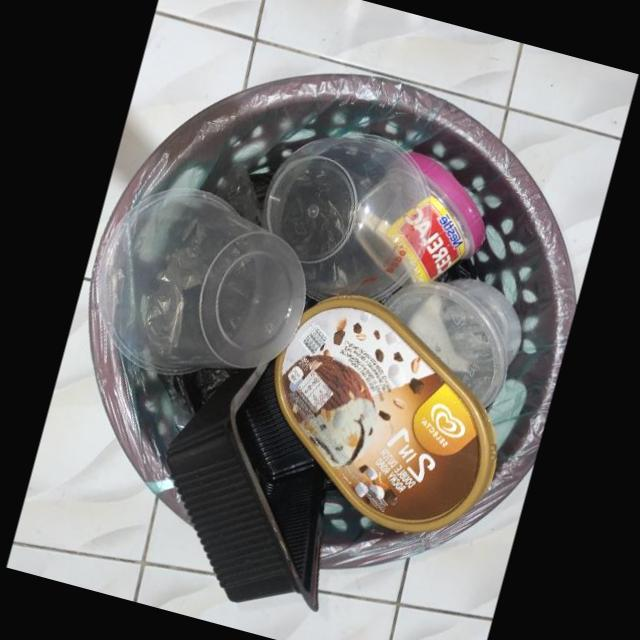hop_nhua: (274, 293, 497, 532), (165, 358, 331, 611), (94, 186, 306, 374), (265, 132, 432, 300), (385, 277, 521, 410), (354, 151, 485, 283)
